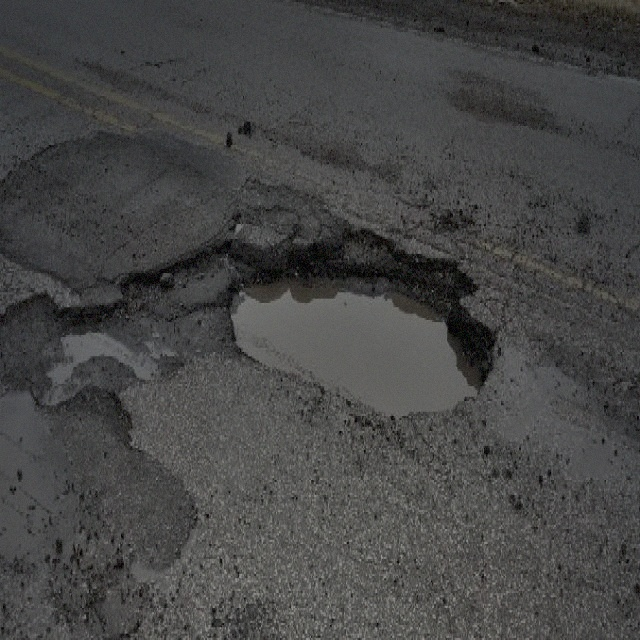pothole: (222, 218, 497, 418), (0, 282, 126, 412)
